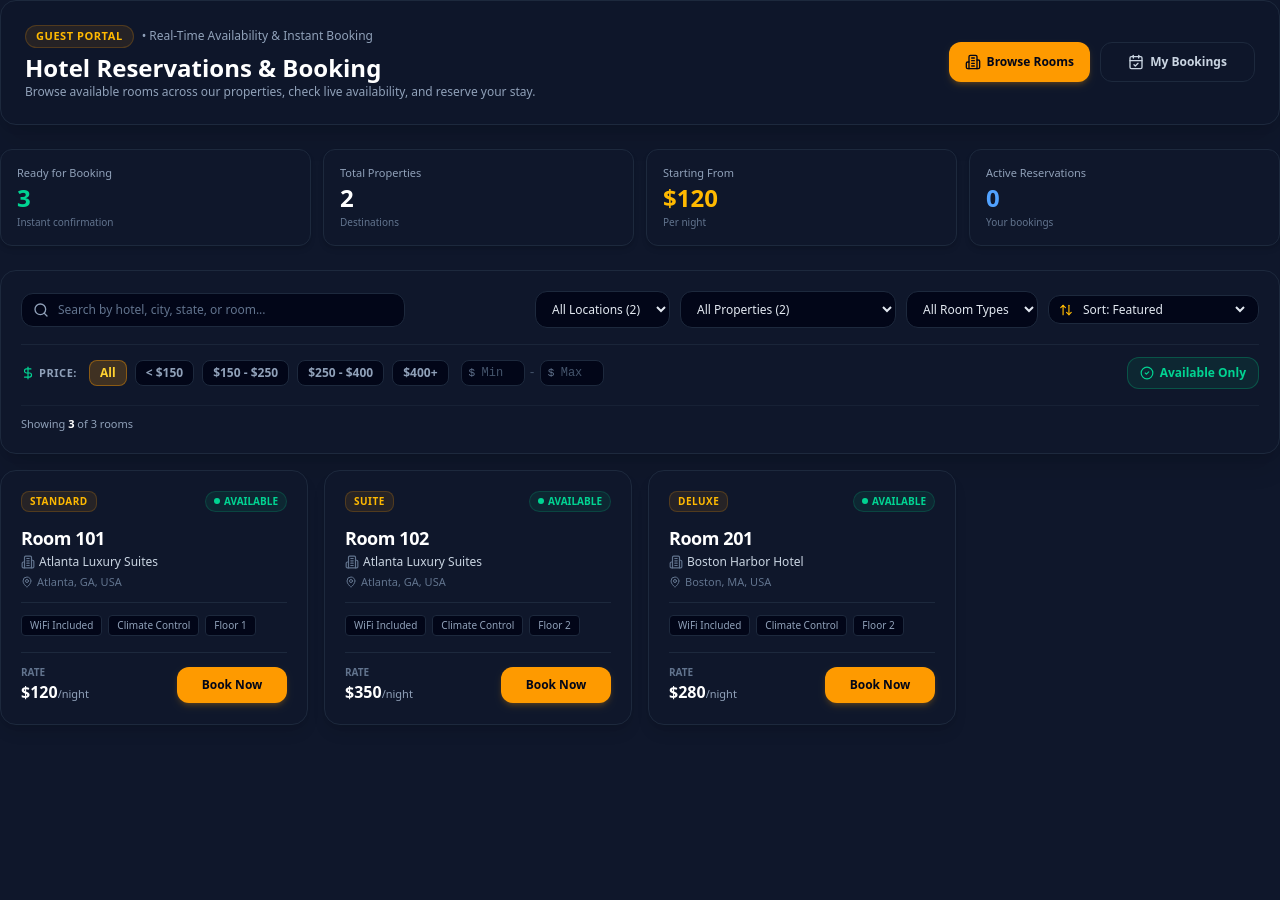
GuestView Component Tests › filters rooms by location
Select "📍 Atlanta, GA" in the 1st dropdown showing "All Locations" at (602, 310), box [535, 292, 670, 328]
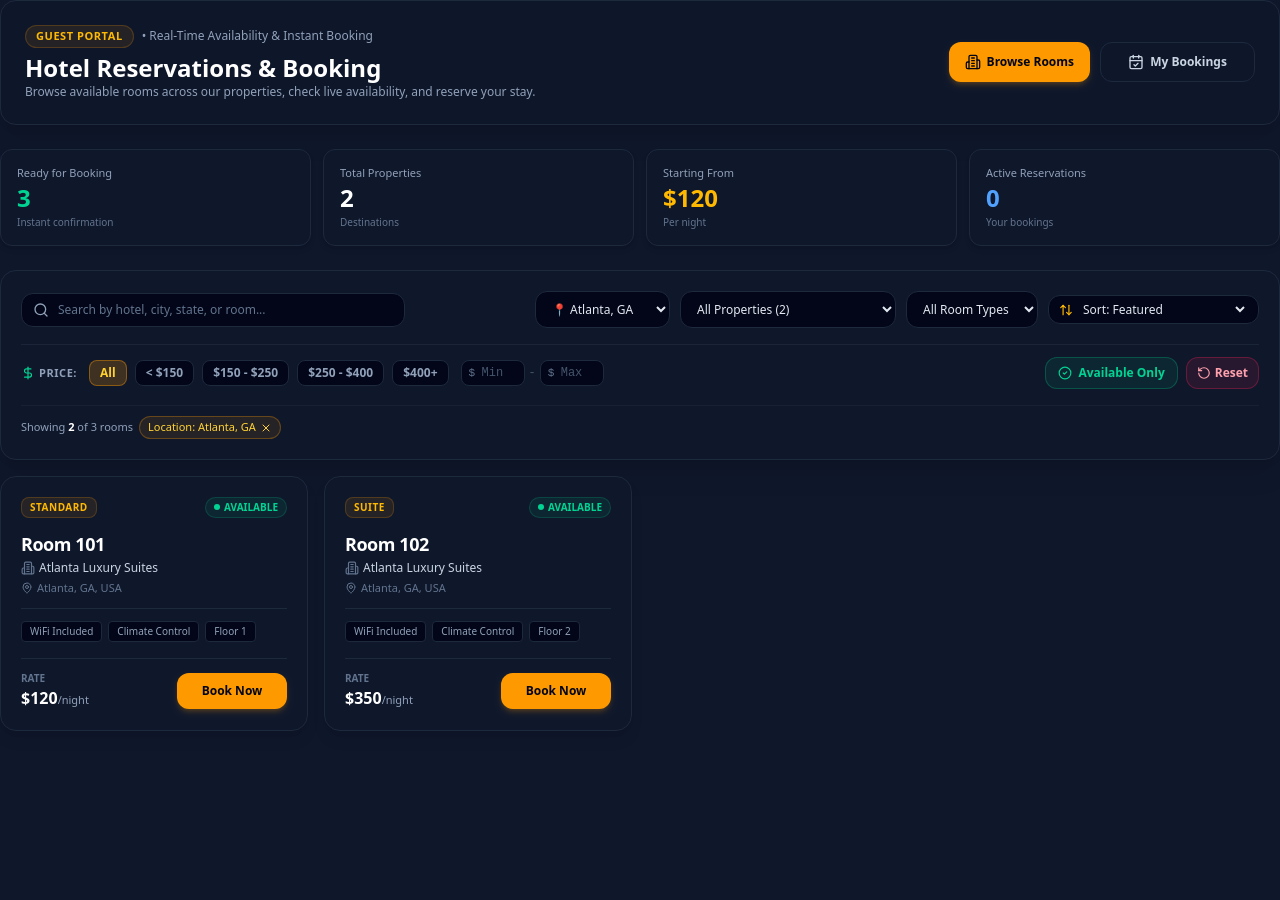
Expected: the heading "Room 101" is shown, [21, 532, 105, 556]
Expected: the heading "Room 201" is gone
